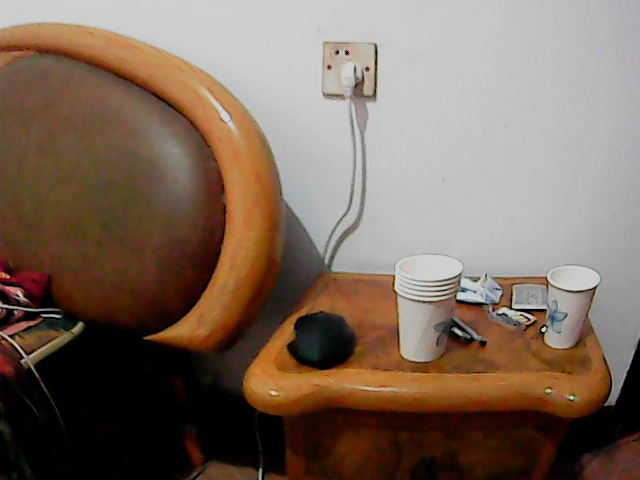cup: (394, 253, 462, 362)
mouse: (285, 309, 358, 368)
